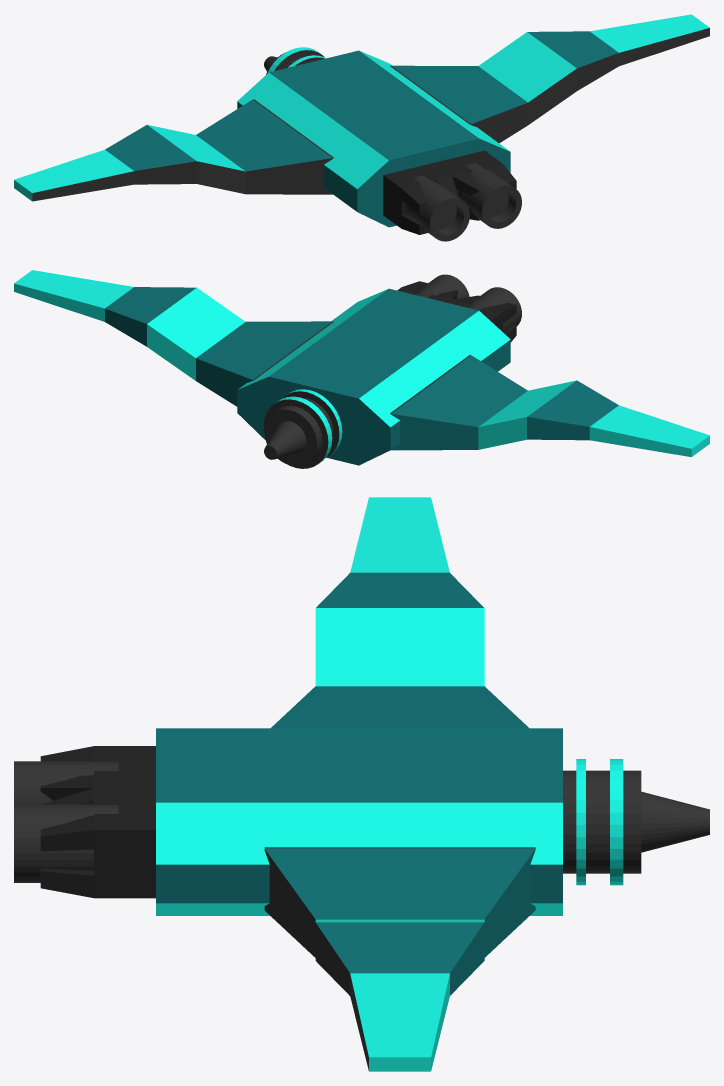
Rendered from ship1.glb.
The picture shows the model from 3 angles, top to bottom: view 1: azimuth 30°, elevation 25°; view 2: azimuth 150°, elevation 25°; view 3: azimuth 270°, elevation 25°; orthographic projection. The views are drawn at different scales.
Visible parts, largest first — view 1: Wings, Body, Jets, Engine, Weapon; view 2: Wings, Body, Weapon, Jets, Engine; view 3: Wings, Body, Engine, Weapon, Jets.
Boxes of the visible parts, x1,y1,x2,y2 form: Wings: (14, 14, 709, 201); Body: (237, 50, 510, 227); Jets: (406, 163, 521, 241); Engine: (383, 150, 516, 234); Weapon: (264, 47, 325, 74); Wings: (14, 270, 709, 456); Body: (237, 288, 510, 465); Weapon: (263, 389, 342, 468); Jets: (417, 274, 521, 332); Engine: (397, 281, 516, 342); Wings: (264, 497, 535, 1071); Body: (156, 728, 562, 915); Engine: (40, 746, 155, 898); Weapon: (563, 759, 709, 885); Jets: (14, 761, 118, 882).
Size of the model in its own units: 9.78 by 0.9337 by 5.13.
Materials: 1 (1 with a texture image).
